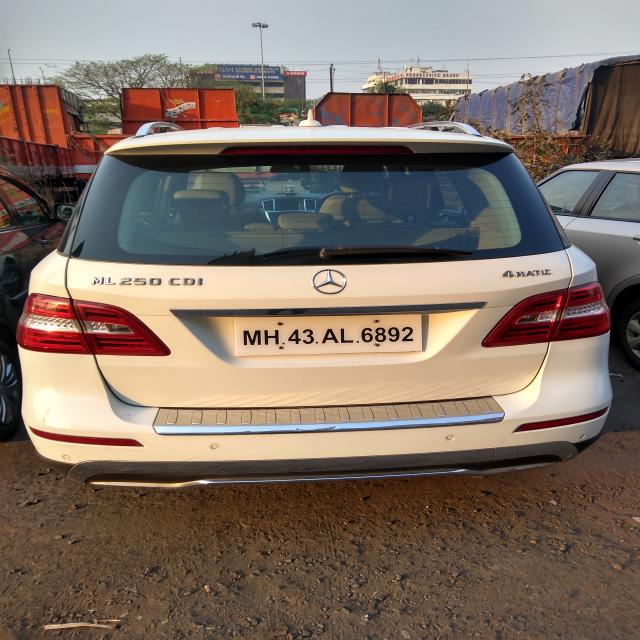Number-Plate: (234, 313, 426, 352)
